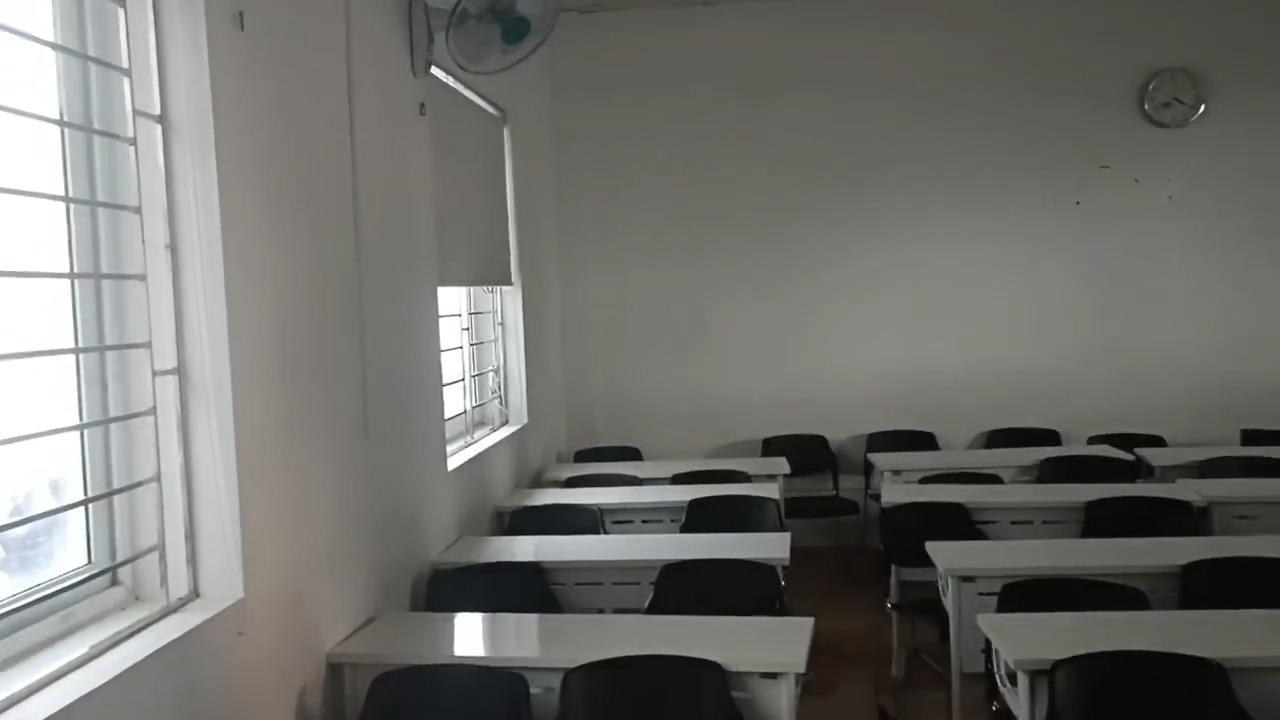chair: (885, 504, 988, 681), (1044, 647, 1254, 719), (553, 656, 746, 714), (361, 662, 532, 719), (764, 433, 860, 521), (651, 558, 793, 613), (428, 563, 562, 610), (999, 573, 1151, 611), (1176, 557, 1279, 608), (1080, 493, 1199, 534), (680, 495, 783, 533), (504, 502, 606, 533), (1040, 454, 1135, 483), (1200, 455, 1279, 479), (915, 470, 1005, 490), (987, 428, 1066, 450), (873, 430, 939, 454), (667, 469, 750, 486), (575, 445, 640, 463), (1080, 432, 1166, 445), (565, 474, 642, 487), (1236, 431, 1279, 449)
clock: (1147, 66, 1206, 129)
fan: (411, 0, 552, 72)
table: (328, 612, 811, 718), (981, 605, 1279, 719), (425, 531, 792, 608), (925, 533, 1279, 569), (867, 443, 1133, 471), (880, 482, 1198, 505), (498, 481, 780, 502), (1188, 477, 1279, 532), (542, 457, 790, 476), (1132, 448, 1279, 466)
